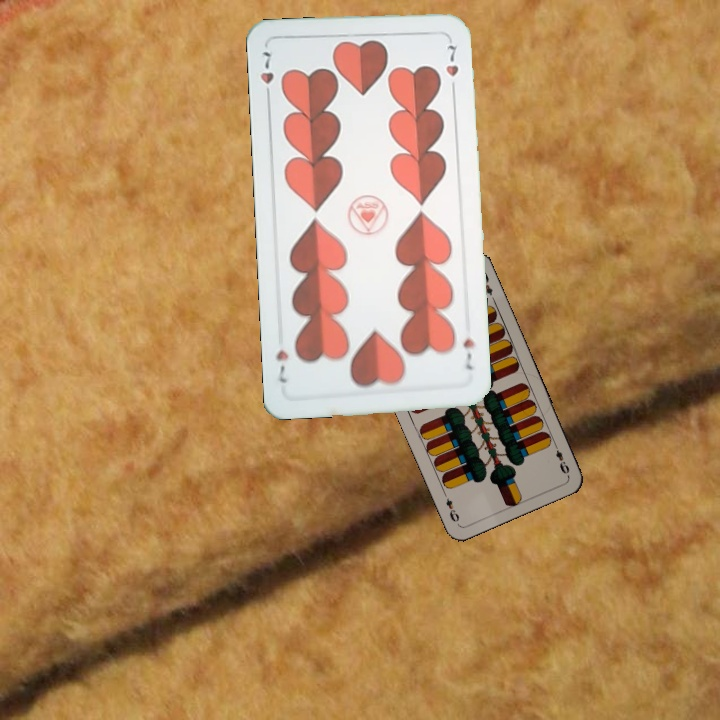E9: (550, 439, 572, 477)
H7: (257, 47, 277, 103), (459, 334, 477, 373)
